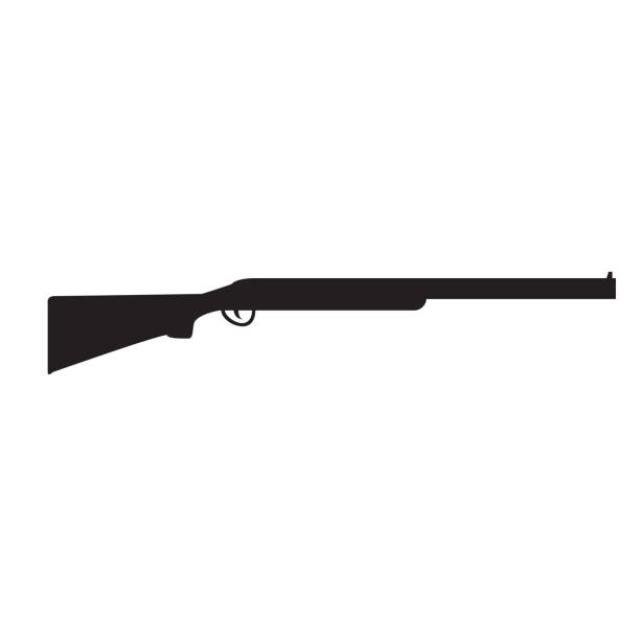firearm: (47, 269, 617, 375)
